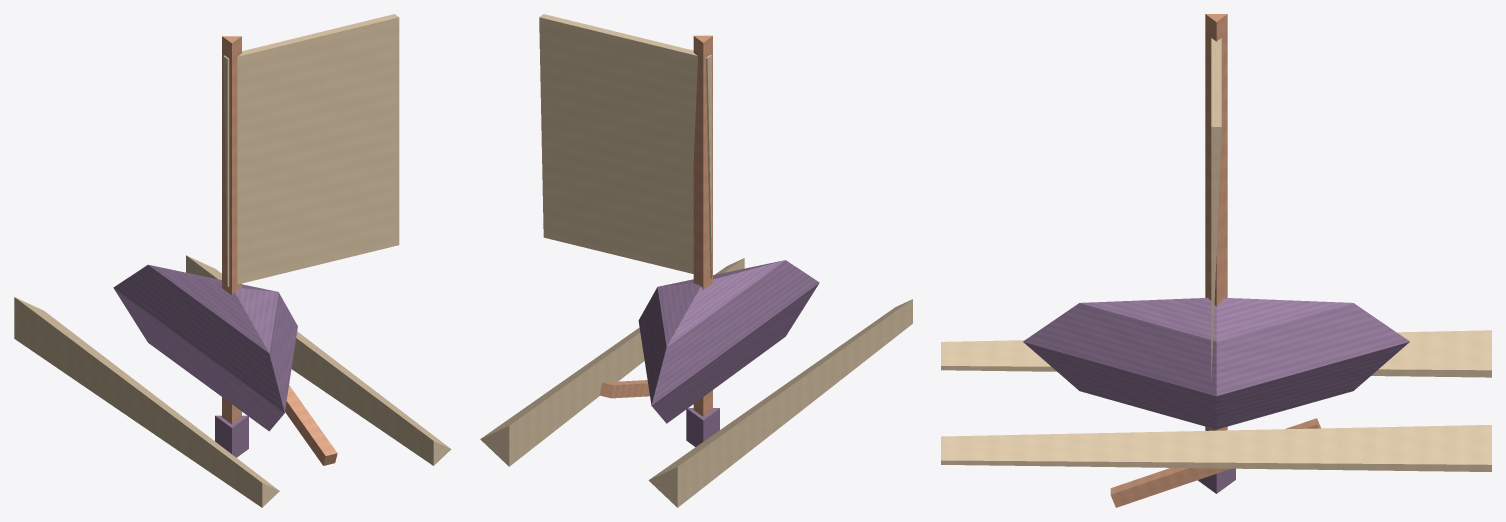
File: atlas100-s089-a01.lod1.glb
The picture shows the model from 3 angles, left to right: view 1: azimuth 30°, elevation 25°; view 2: azimuth 150°, elevation 25°; view 3: azimuth 270°, elevation 25°; orthographic projection. The views are drawn at different scales.
Visible parts, largest first — view 1: atlas100-s089-a01:part-007, atlas100-s089-a01:part-000, atlas100-s089-a01:part-003, atlas100-s089-a01:part-004, atlas100-s089-a01:part-005, atlas100-s089-a01:part-002, atlas100-s089-a01:part-006; view 2: atlas100-s089-a01:part-007, atlas100-s089-a01:part-000, atlas100-s089-a01:part-003, atlas100-s089-a01:part-004, atlas100-s089-a01:part-005, atlas100-s089-a01:part-006, atlas100-s089-a01:part-002; view 3: atlas100-s089-a01:part-000, atlas100-s089-a01:part-004, atlas100-s089-a01:part-003, atlas100-s089-a01:part-005, atlas100-s089-a01:part-007, atlas100-s089-a01:part-002.
Part boxes in pixels (x1=…): atlas100-s089-a01:part-007: x1=223, y1=14, x2=399, y2=286; atlas100-s089-a01:part-000: x1=113, y1=264, x2=297, y2=431; atlas100-s089-a01:part-003: x1=14, y1=297, x2=279, y2=507; atlas100-s089-a01:part-004: x1=186, y1=255, x2=451, y2=465; atlas100-s089-a01:part-005: x1=222, y1=36, x2=241, y2=424; atlas100-s089-a01:part-002: x1=285, y1=385, x2=337, y2=465; atlas100-s089-a01:part-006: x1=215, y1=415, x2=248, y2=457; atlas100-s089-a01:part-007: x1=539, y1=14, x2=711, y2=278; atlas100-s089-a01:part-000: x1=638, y1=260, x2=819, y2=423; atlas100-s089-a01:part-003: x1=648, y1=299, x2=912, y2=507; atlas100-s089-a01:part-004: x1=480, y1=258, x2=744, y2=466; atlas100-s089-a01:part-005: x1=693, y1=35, x2=712, y2=416; atlas100-s089-a01:part-006: x1=686, y1=408, x2=719, y2=446; atlas100-s089-a01:part-002: x1=599, y1=380, x2=649, y2=398; atlas100-s089-a01:part-000: x1=1023, y1=298, x2=1409, y2=429; atlas100-s089-a01:part-004: x1=941, y1=425, x2=1491, y2=471; atlas100-s089-a01:part-003: x1=941, y1=330, x2=1491, y2=377; atlas100-s089-a01:part-005: x1=1205, y1=14, x2=1227, y2=430; atlas100-s089-a01:part-007: x1=1211, y1=38, x2=1221, y2=379; atlas100-s089-a01:part-002: x1=1110, y1=418, x2=1320, y2=507.
Bounding box in the file's own units: 1.98 × 3 × 3.2.
3 materials, 3 textured.
